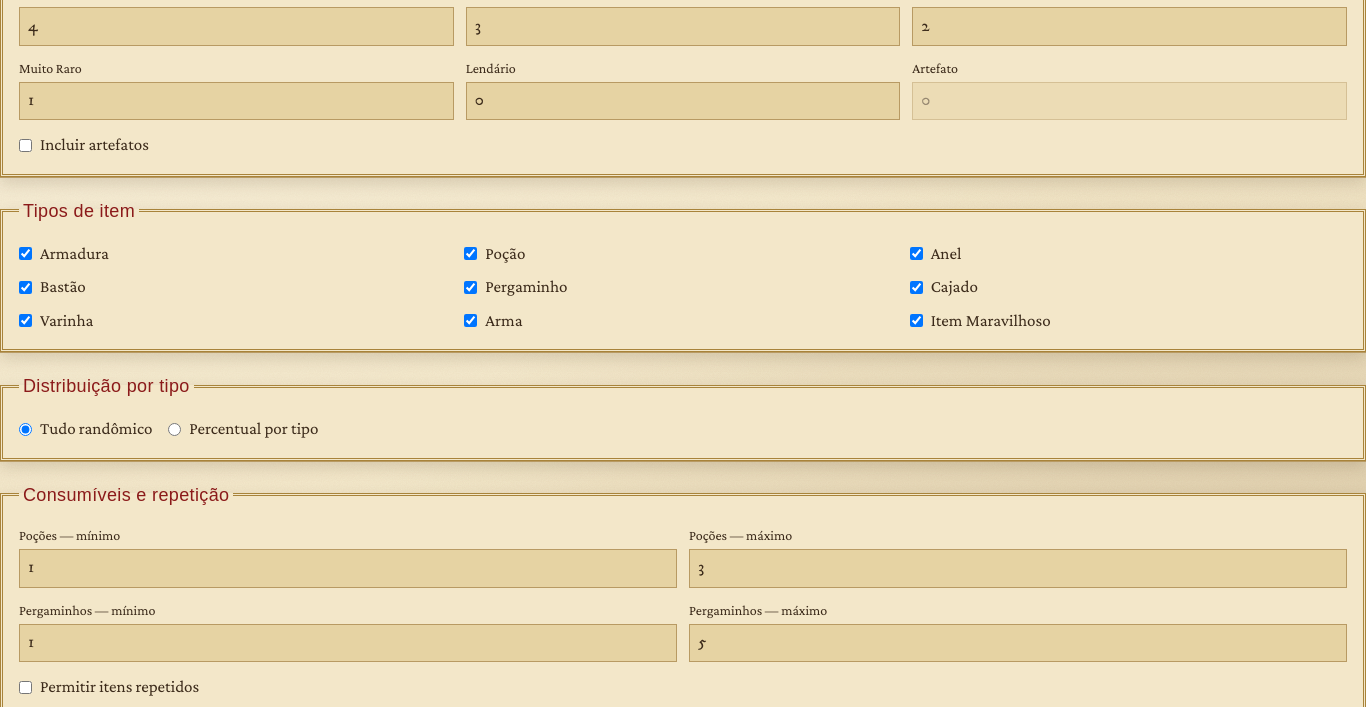
Scenario: ItemsPanel › avisa quando faltam itens para a raridade pedida
Replace the text in the number field labelled "Raro" with "5". click: x=1130, y=26
box: x1=912 y1=7 x2=1347 y2=46
(page scrolled)
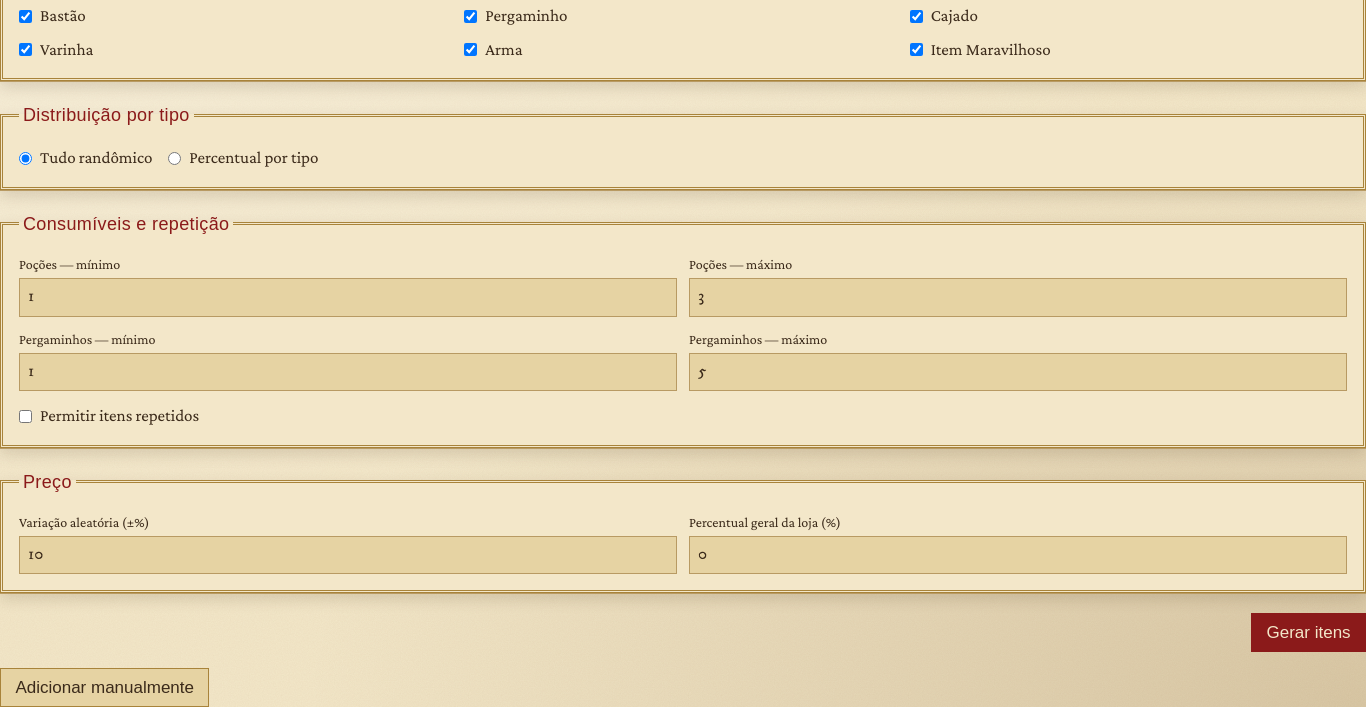
Click the button "Gerar itens". click: x=1309, y=633
box: x1=1251 y1=613 x2=1365 y2=652
(page scrolled)
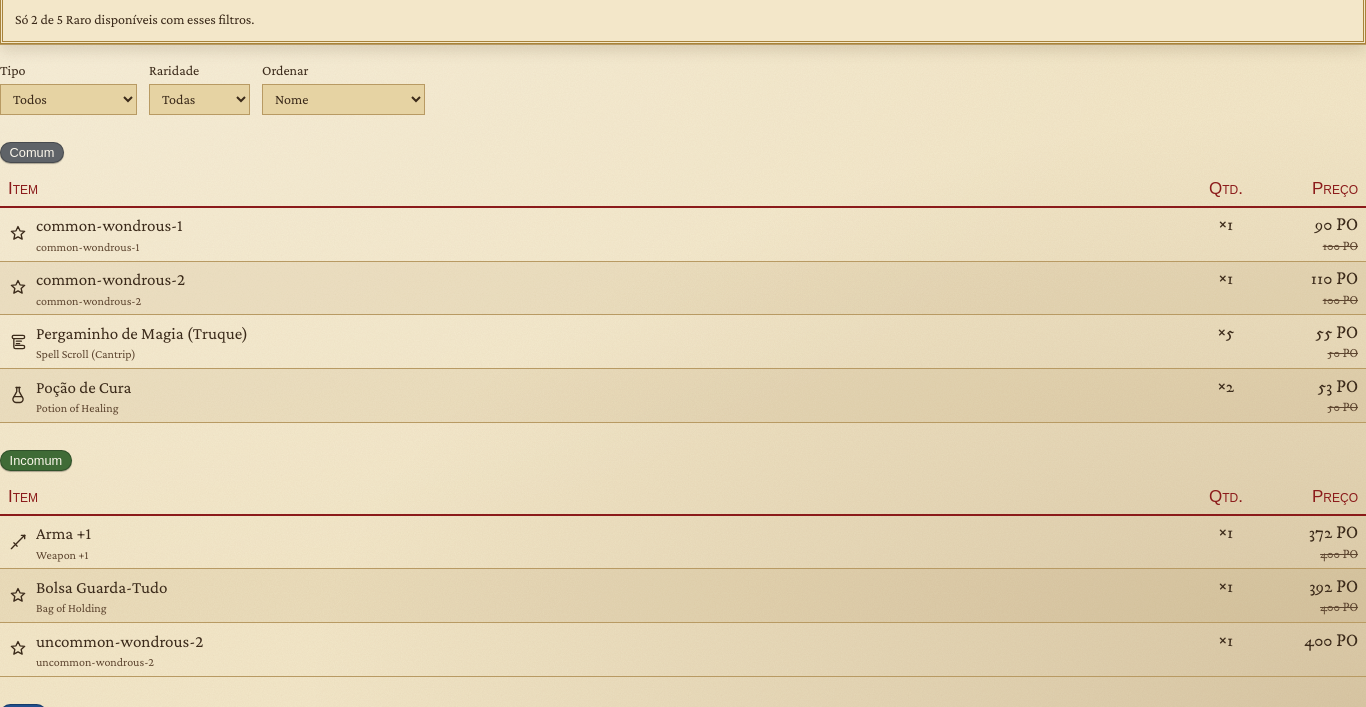
Result: the message reads "Só 2 de 5 Raro disponíveis com esses filtros." at x1=15 y1=11 x2=254 y2=27
